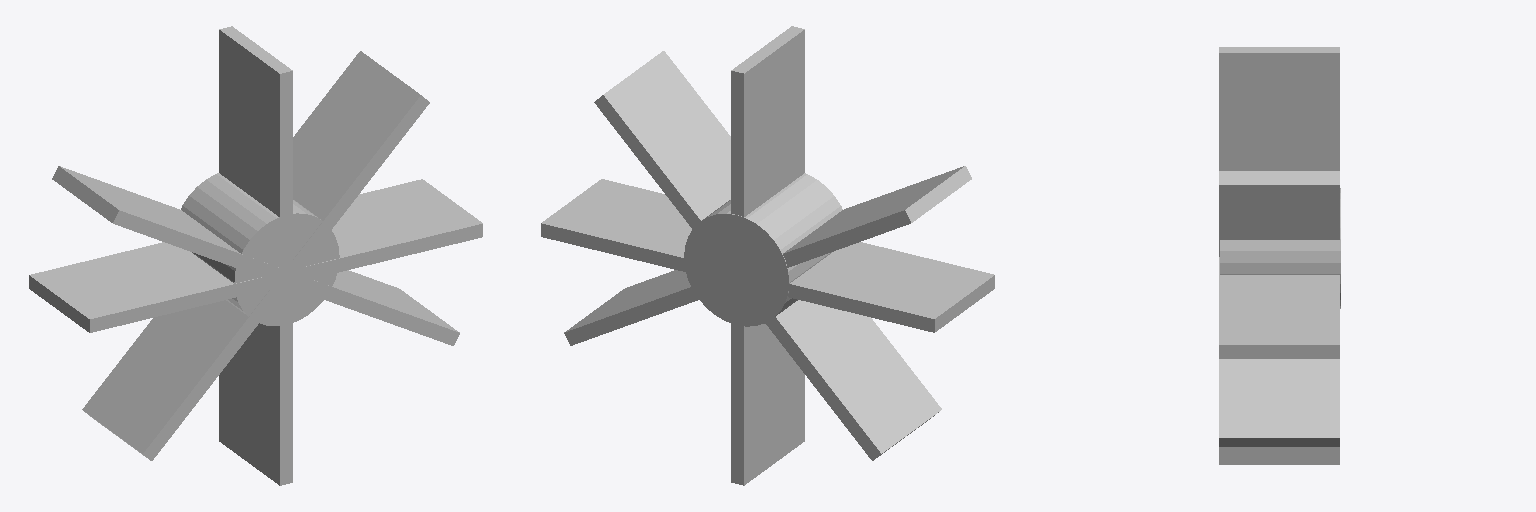
File: rueda.obj
The picture shows the model from 3 angles: view 1: azimuth 30°, elevation 25°; view 2: azimuth 150°, elevation 25°; view 3: azimuth 270°, elevation 25°; orthographic projection.
Visible parts, largest first — view 1: Cube, Cube.001, Cube.002, Cube.003, Cylinder; view 2: Cube, Cube.001, Cube.002, Cylinder, Cube.003; view 3: Cube.001, Cube.003, Cube.002, Cube, Cylinder.
Boxes of the visible parts, box(x1,y1,x2,y2) form: Cube: box(82, 51, 429, 460); Cube.001: box(219, 26, 292, 485); Cube.002: box(29, 179, 482, 332); Cube.003: box(52, 166, 459, 345); Cylinder: box(181, 173, 339, 325); Cube: box(594, 51, 941, 460); Cube.001: box(731, 26, 804, 485); Cube.002: box(541, 179, 994, 332); Cylinder: box(684, 173, 842, 326); Cube.003: box(564, 166, 971, 345); Cube.001: box(1219, 47, 1339, 464); Cube.003: box(1219, 359, 1339, 446); Cube.002: box(1219, 257, 1339, 358); Cube: box(1219, 171, 1339, 256); Cylinder: box(1220, 188, 1340, 308).
Size of the model in its own units: 20.9 by 20.9 by 5.62.